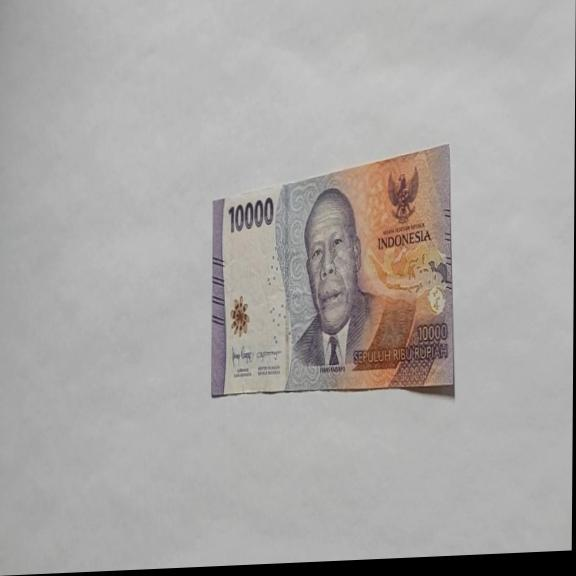Kertas: (209, 142, 456, 403), (227, 195, 274, 235)
